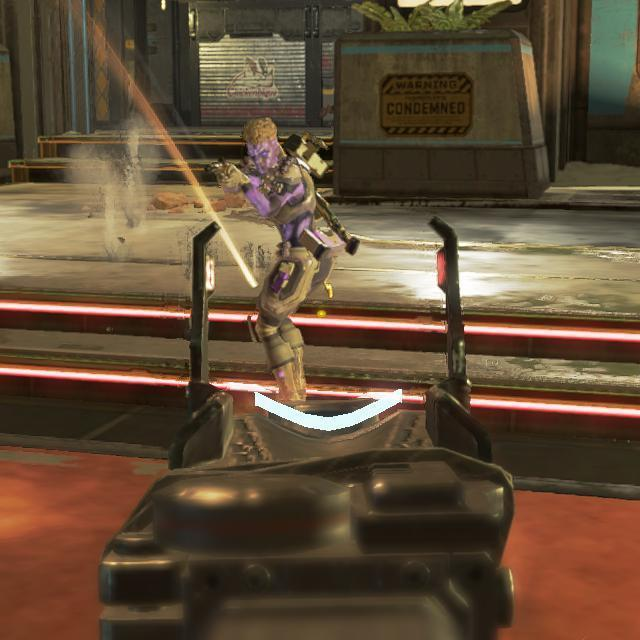avatar: (214, 115, 337, 412)
